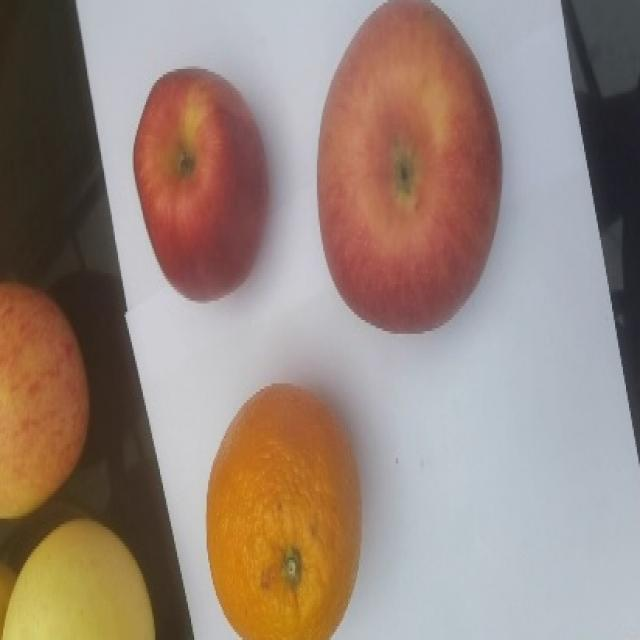Apple: (315, 0, 506, 336), (129, 63, 270, 305), (0, 279, 92, 515)
Orange: (201, 381, 362, 640)
